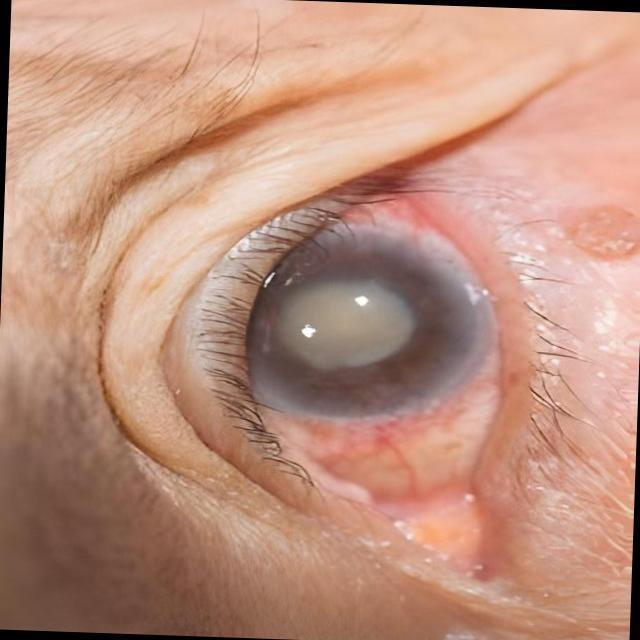Cataract: (235, 218, 480, 426)
